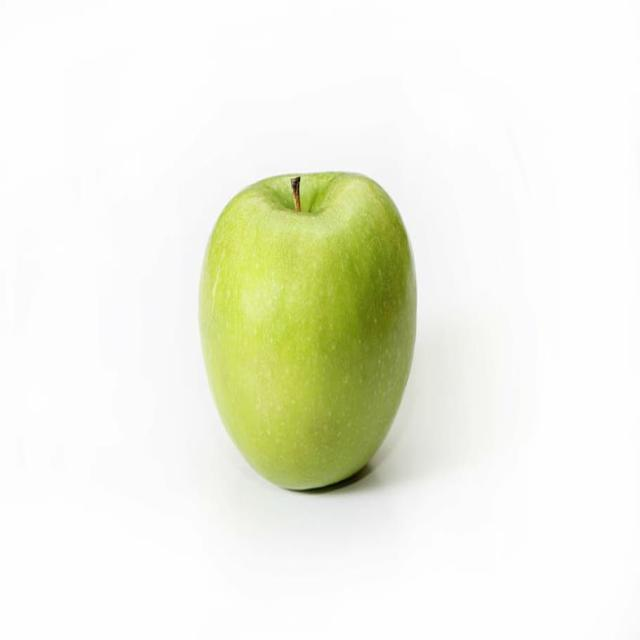Healty Apple: (182, 152, 442, 495)
